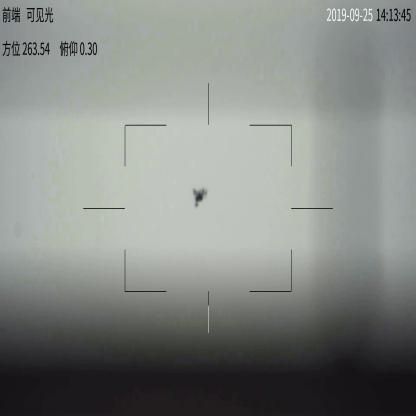uav: (190, 184, 210, 209)
